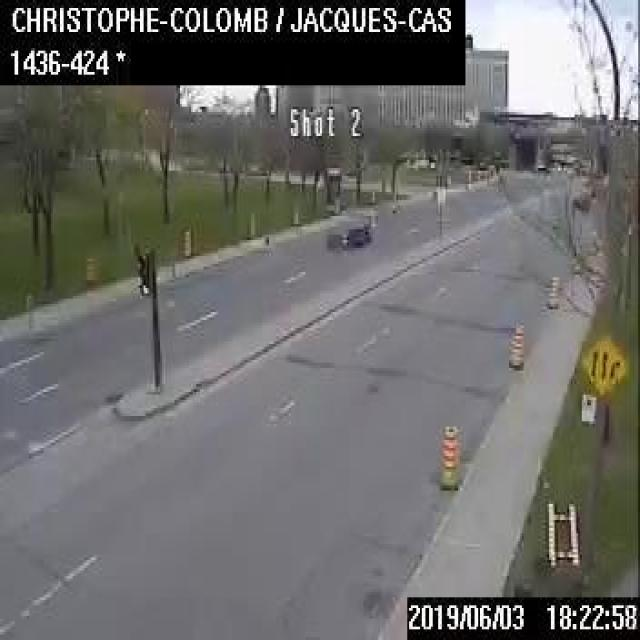construction: (438, 421, 458, 488), (506, 320, 524, 369), (546, 271, 558, 307), (84, 253, 96, 286), (182, 226, 191, 256), (291, 197, 299, 224), (247, 211, 254, 235)
vehicle: (326, 212, 370, 248)
